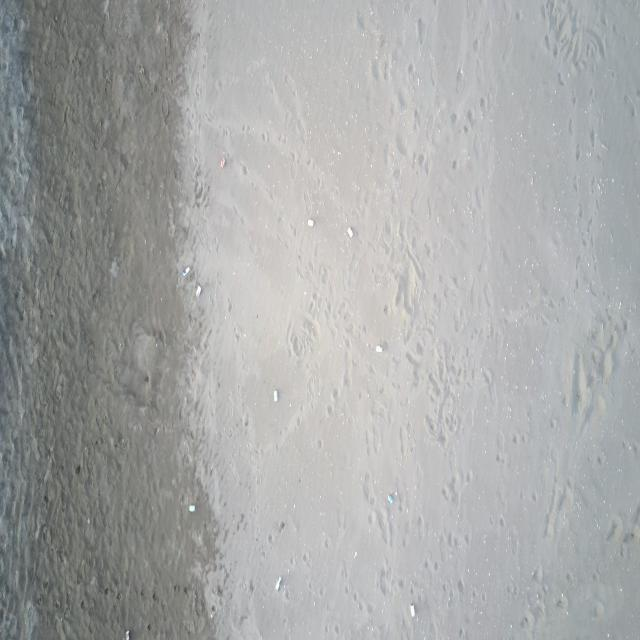Garbage: (387, 492, 395, 504), (181, 266, 190, 276), (272, 388, 278, 402), (275, 575, 280, 590), (409, 604, 415, 616), (195, 284, 200, 296), (187, 505, 195, 512), (375, 344, 382, 352), (219, 156, 224, 167), (123, 630, 129, 639), (347, 226, 352, 236), (307, 218, 313, 226)
